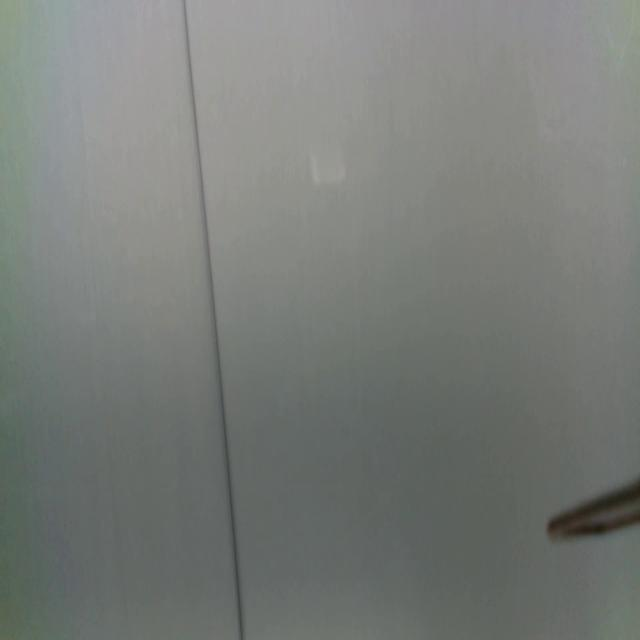crease: (184, 0, 245, 640)
